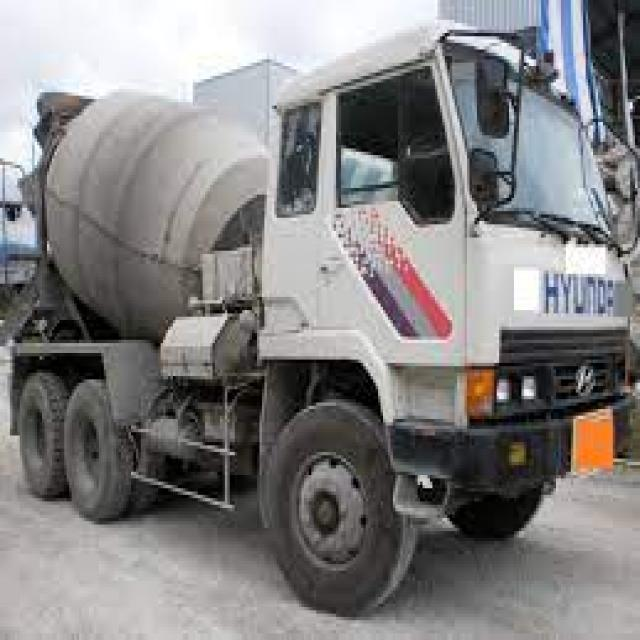Mixer Truck: (7, 19, 633, 614)
